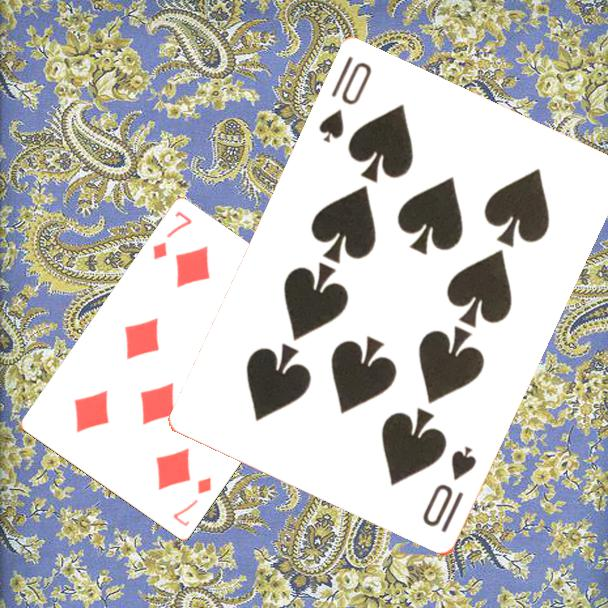d07: (169, 474, 215, 530), (149, 208, 195, 263)
s10: (419, 443, 480, 537), (315, 53, 375, 147)
